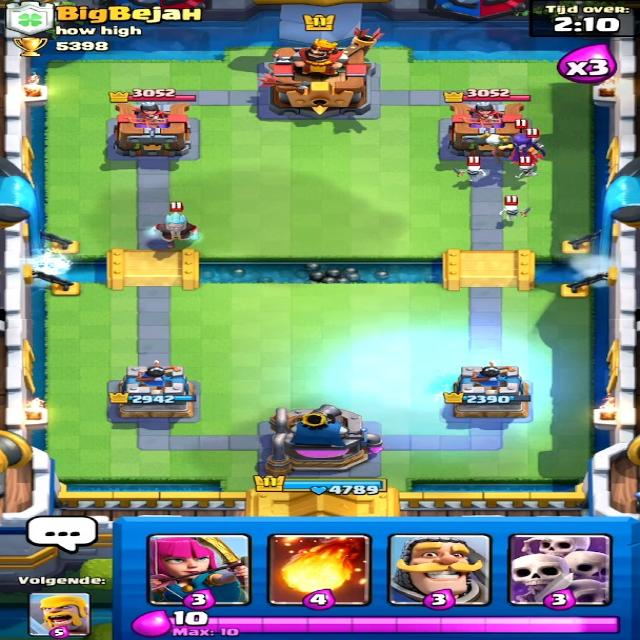Enemy_Ice_Wizard_Troop: (152, 209, 205, 249)
Enemy_Skeleton_Troop: (498, 205, 532, 222), (454, 164, 486, 182), (512, 164, 540, 178)
Enemy_Witch_Troop: (502, 131, 544, 164)
Fireball_Card: (270, 534, 364, 609)
